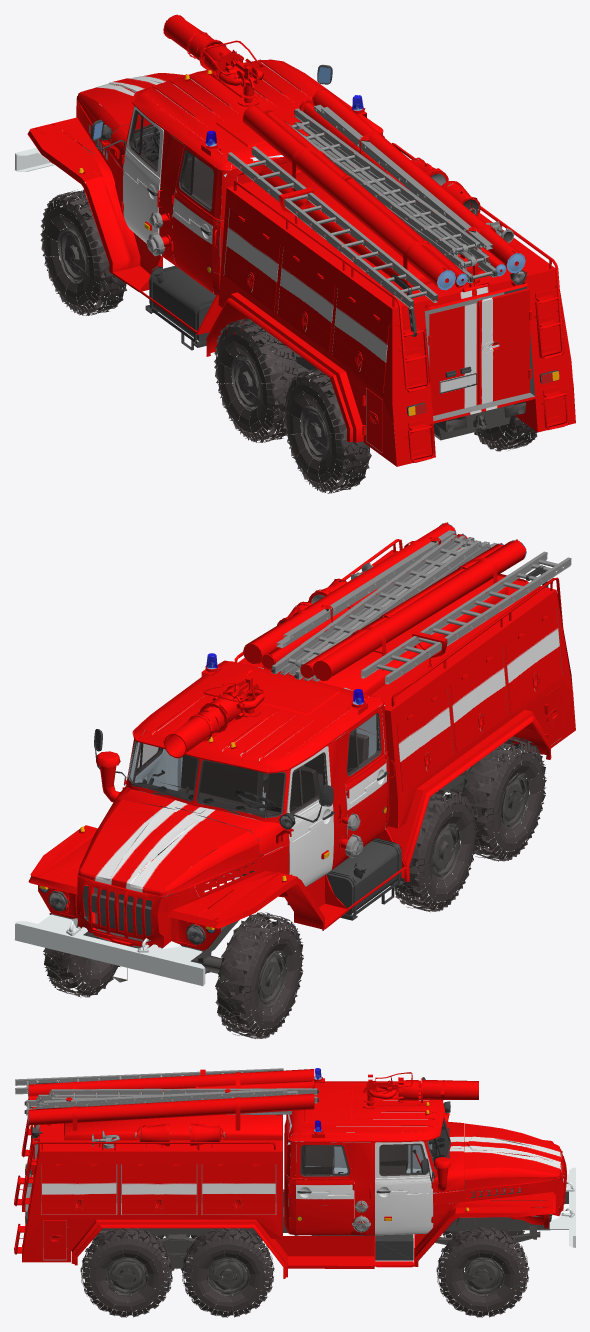
The model's file is ural_fire.glb.
3 renders of one model, top to bottom at view 1: azimuth 30°, elevation 25°; view 2: azimuth 150°, elevation 25°; view 3: azimuth 270°, elevation 25°, orthographic. The views are drawn at different scales.
Visible parts, largest first — view 1: body, wheel_ML, wheel_RL, wheel_FL, door_RL, door_FL, wheel_RR; view 2: body, wheel_FL, wheel_RL, wheel_ML, door_FL, door_RL, wheel_FR, door_FR; view 3: body, wheel_FR, wheel_MR, wheel_RR, door_RR, door_FR.
Boxes of the visible parts, left/top/right/bottom form: body: left=14, top=14, right=575, bottom=466; wheel_ML: left=214, top=317, right=298, bottom=442; wheel_RL: left=283, top=368, right=371, bottom=493; wheel_FL: left=40, top=189, right=126, bottom=315; door_RL: left=170, top=146, right=217, bottom=293; door_FL: left=121, top=106, right=163, bottom=255; wheel_RR: left=474, top=415, right=537, bottom=451; body: left=14, top=522, right=575, bottom=986; wheel_FL: left=215, top=912, right=303, bottom=1038; wheel_RL: left=461, top=736, right=546, bottom=861; wheel_ML: left=390, top=786, right=477, bottom=912; door_FL: left=286, top=746, right=334, bottom=886; door_RL: left=344, top=707, right=388, bottom=856; wheel_FR: left=43, top=913, right=120, bottom=997; door_FR: left=122, top=742, right=165, bottom=789; body: left=14, top=1068, right=575, bottom=1278; wheel_FR: left=436, top=1226, right=529, bottom=1317; wheel_MR: left=182, top=1228, right=274, bottom=1317; wheel_RR: left=80, top=1228, right=173, bottom=1317; door_RR: left=296, top=1142, right=354, bottom=1235; door_FR: left=375, top=1141, right=433, bottom=1235.
Size of the model in its own units: 2.77 by 3.15 by 7.66.
17 materials, 4 textured.
